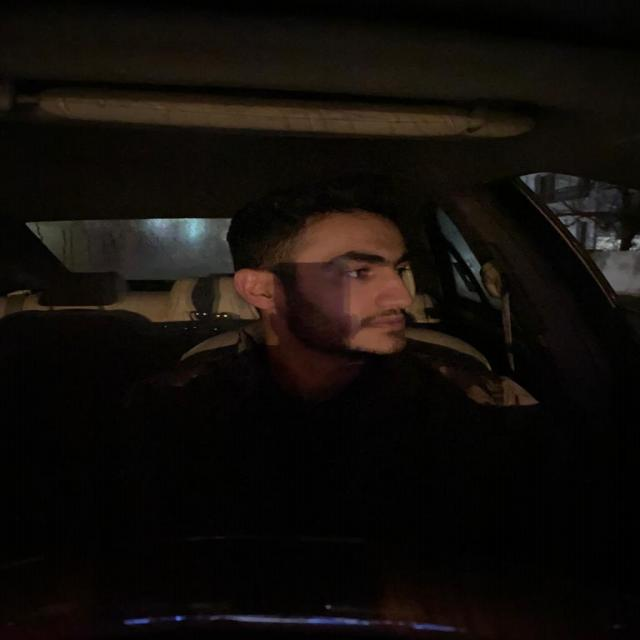LeftRight: (220, 161, 442, 377)
